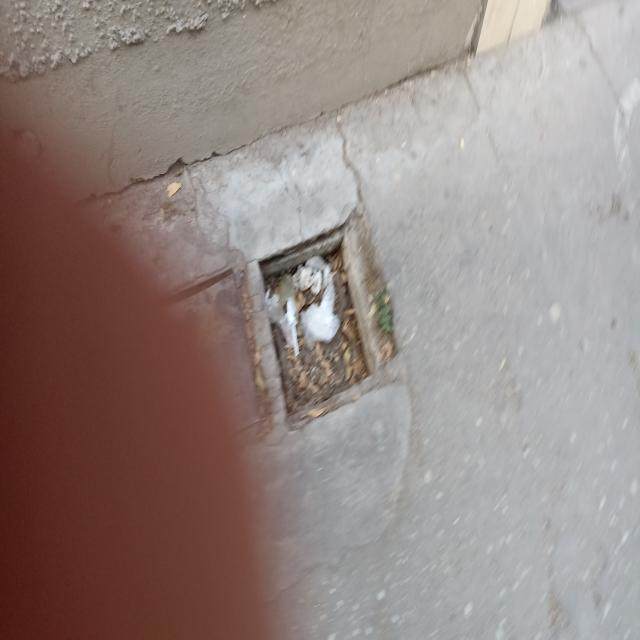hole: (248, 221, 392, 438)
